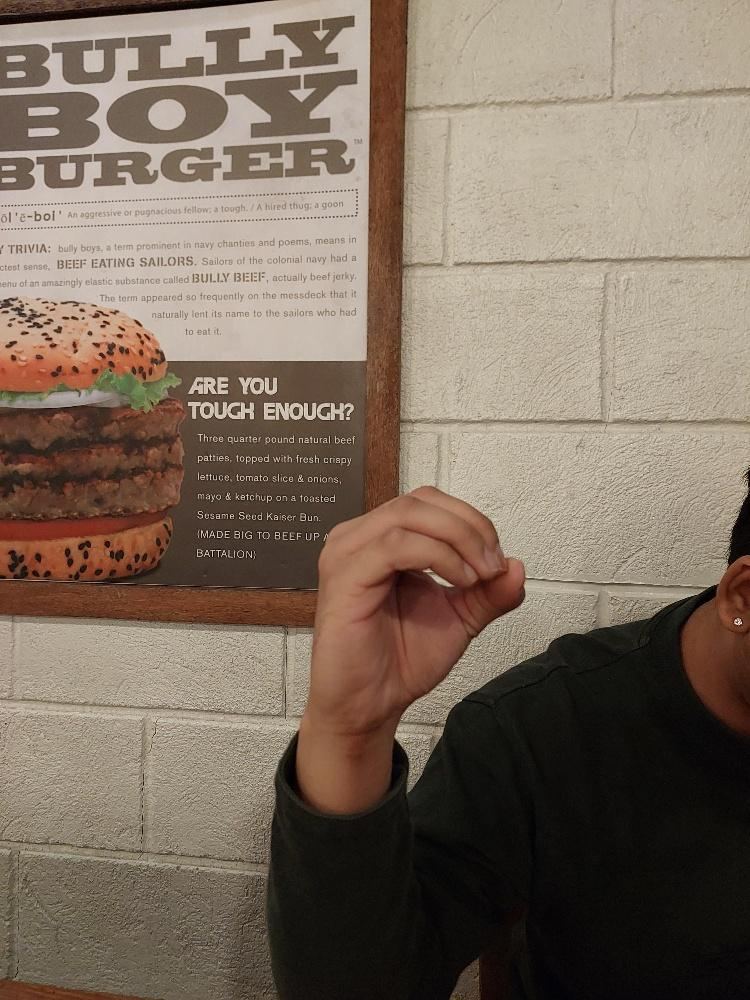o: (306, 481, 533, 736)
